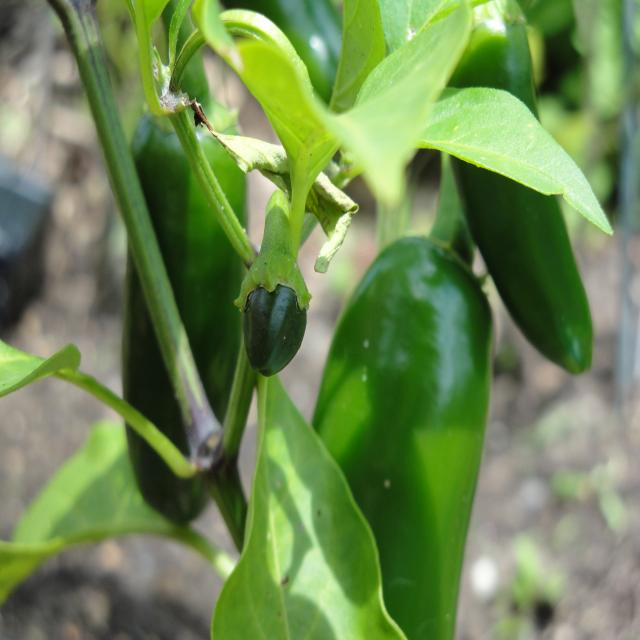aji: (130, 96, 266, 512), (350, 226, 388, 241)
